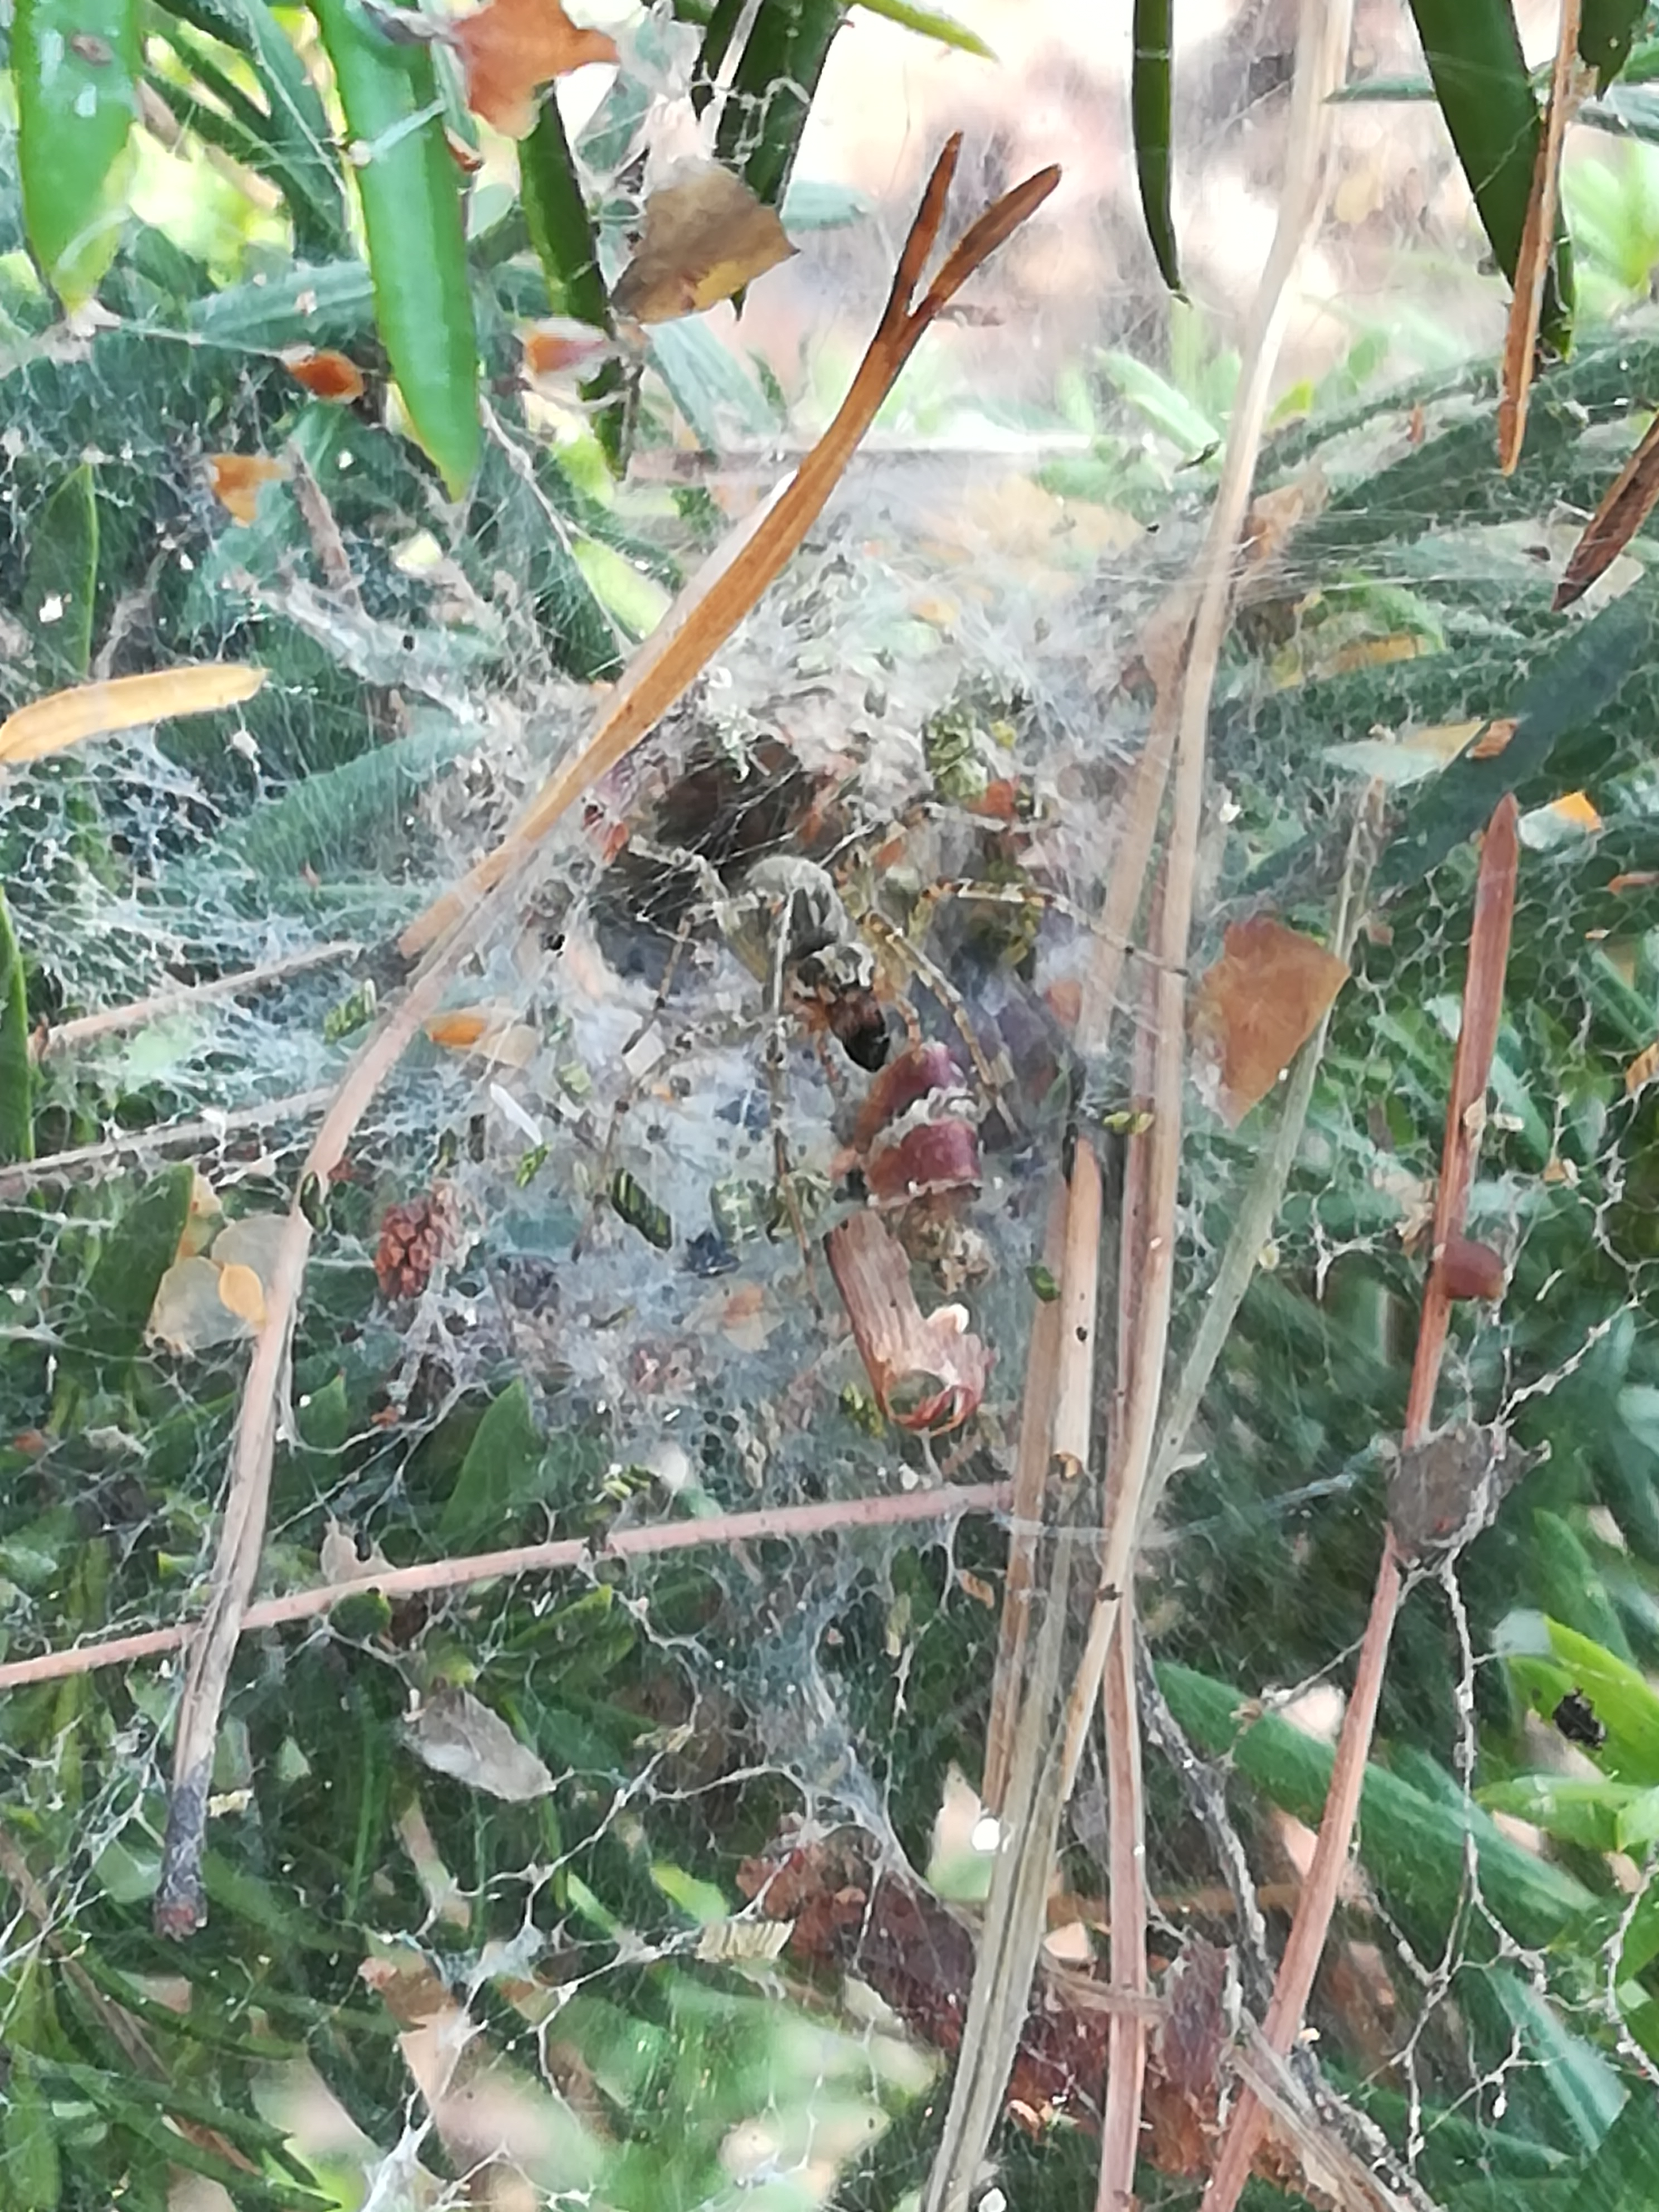spider: (535, 643, 1208, 1273)
